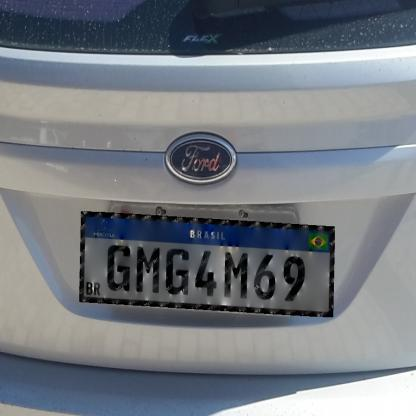PlacaM: (79, 212, 335, 318)
